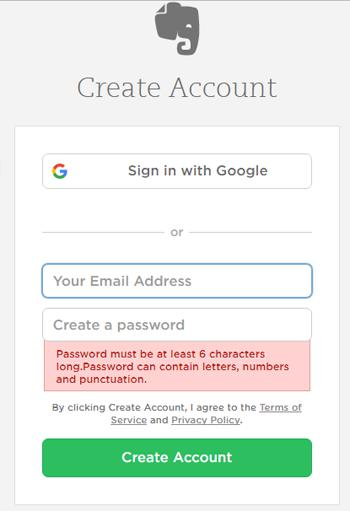error_message: (52, 347, 298, 385)
